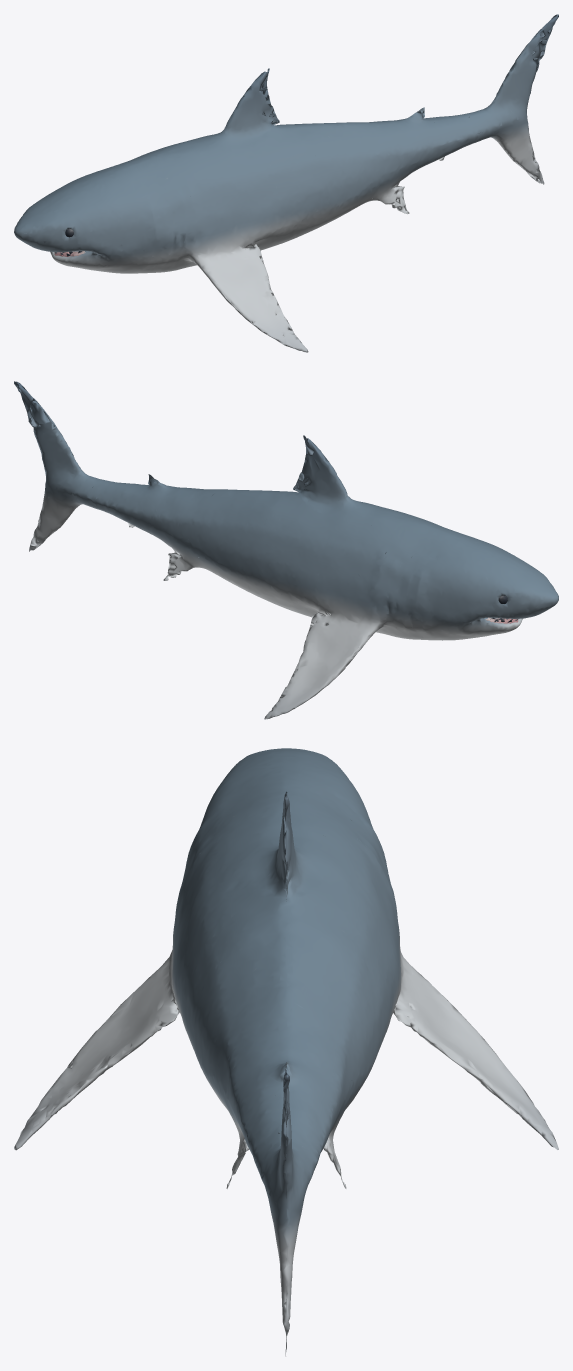
File: shark.glb
The picture shows the model from 3 angles, top to bottom: view 1: azimuth 30°, elevation 25°; view 2: azimuth 150°, elevation 25°; view 3: azimuth 270°, elevation 25°; orthographic projection. The views are drawn at different scales.
Parts seen in each view (by area): view 1: Shark3D; view 2: Shark3D; view 3: Shark3D.
Part boxes in pixels (x1=…): Shark3D: x1=14, y1=14, x2=558, y2=352; Shark3D: x1=14, y1=381, x2=558, y2=719; Shark3D: x1=14, y1=748, x2=558, y2=1356.
Size of the model in its own units: 0.9973 by 0.3845 by 0.4861.
